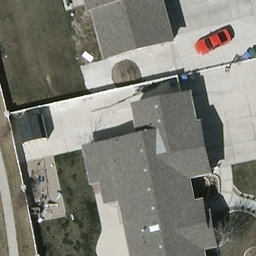car: (192, 26, 236, 56)
